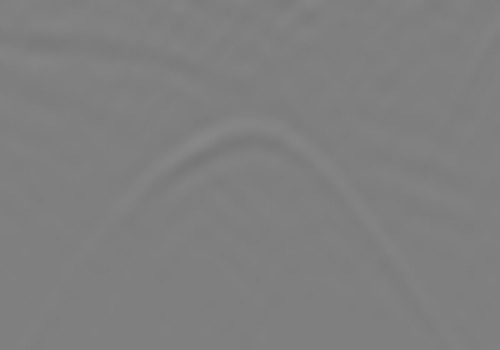hyperbola: (59, 111, 434, 296)
